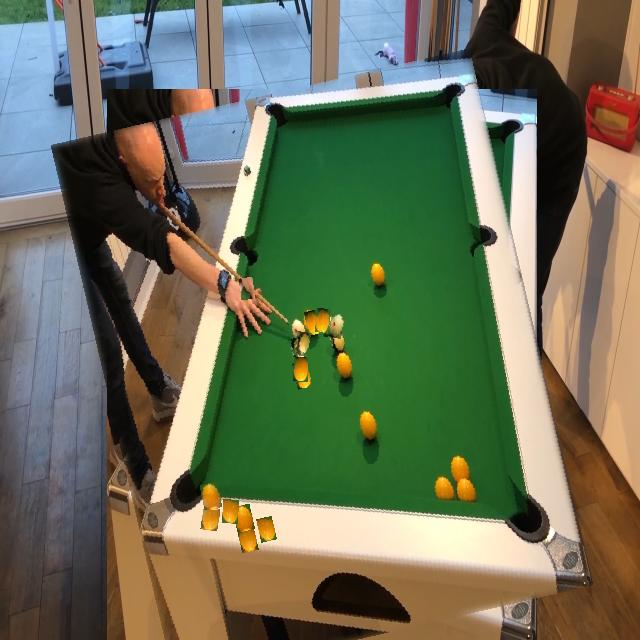Ball: (201, 482, 221, 510), (281, 419, 299, 449), (201, 506, 220, 531), (223, 500, 239, 524), (329, 314, 345, 338), (294, 332, 310, 356), (293, 358, 308, 383), (316, 309, 330, 333), (240, 278, 254, 300)
Billiard table: (78, 68, 565, 640)
